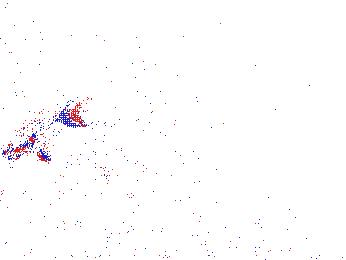glassfish: (83, 151, 194, 207)
redtail glassfish: (1, 98, 84, 163)
